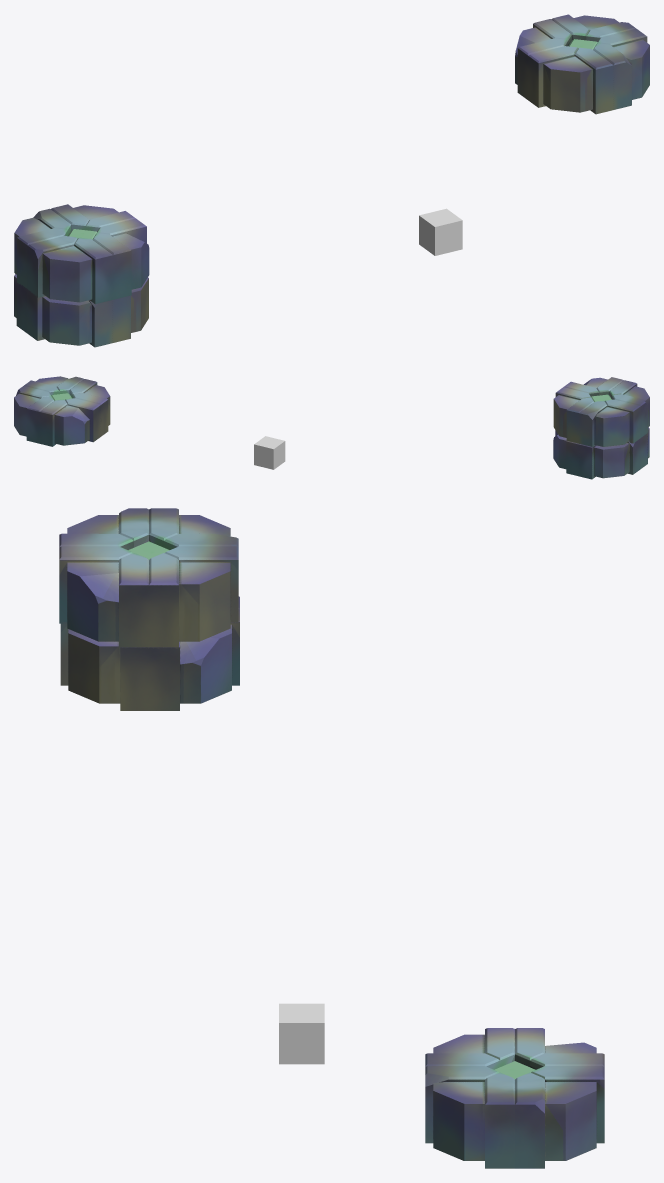
The model's file is battlescence-1-floor008-2.fbx.
The picture shows the model from 3 angles, top to bottom: view 1: azimuth 30°, elevation 25°; view 2: azimuth 150°, elevation 25°; view 3: azimuth 270°, elevation 25°; orthographic projection. The views are drawn at different scales.
Parts seen in each view (by area): view 1: Plane.022, Plane.004, Plane.020, battlescence-1-floor008-2; view 2: Plane.004, Plane.022, Plane.020, battlescence-1-floor008-2; view 3: Plane.022, Plane.004, Plane.020, battlescence-1-floor008-2.
Part boxes in pixels (box(x1,y1,x2,y2)): Plane.022: box(14, 204, 149, 304); Plane.004: box(515, 14, 649, 114); Plane.020: box(14, 274, 148, 347); battlescence-1-floor008-2: box(419, 208, 462, 255); Plane.004: box(14, 376, 110, 446); Plane.022: box(553, 377, 649, 447); Plane.020: box(553, 427, 649, 479); battlescence-1-floor008-2: box(254, 436, 285, 469); Plane.022: box(59, 508, 238, 648); Plane.004: box(425, 1028, 604, 1168); Plane.020: box(60, 596, 239, 710); battlescence-1-floor008-2: box(279, 1003, 324, 1064).
Bounding box in the file's own units: 2824 × 570 × 1268.
